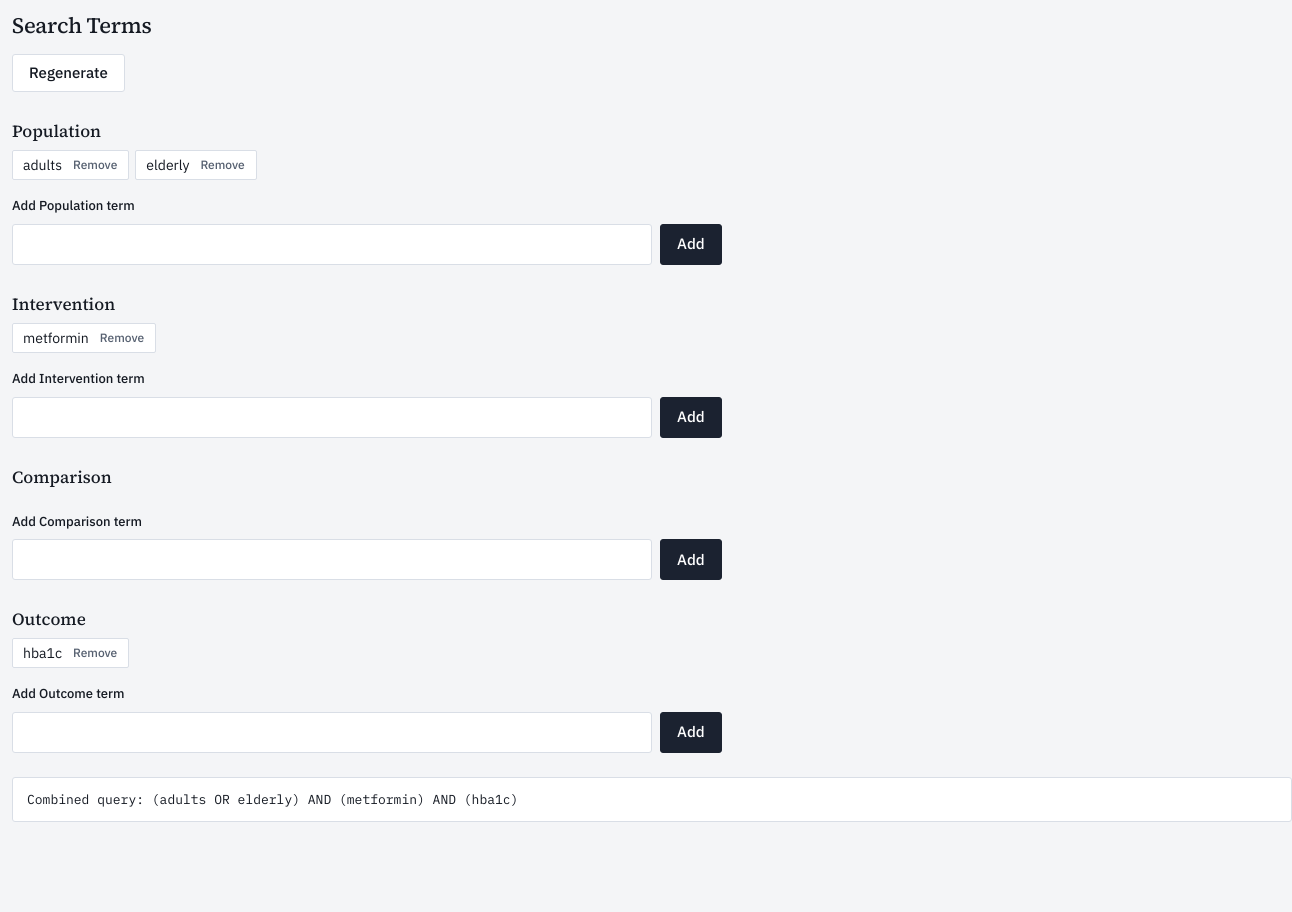
it: SearchTermsPanel › adds a term to a concept and updates the combined string
Expected: the list item "adults" is shown, 23,156 -> 62,174
In the field labelled "Add Comparison term": x=332, y=560 12,539 -> 652,580, type "placebo"
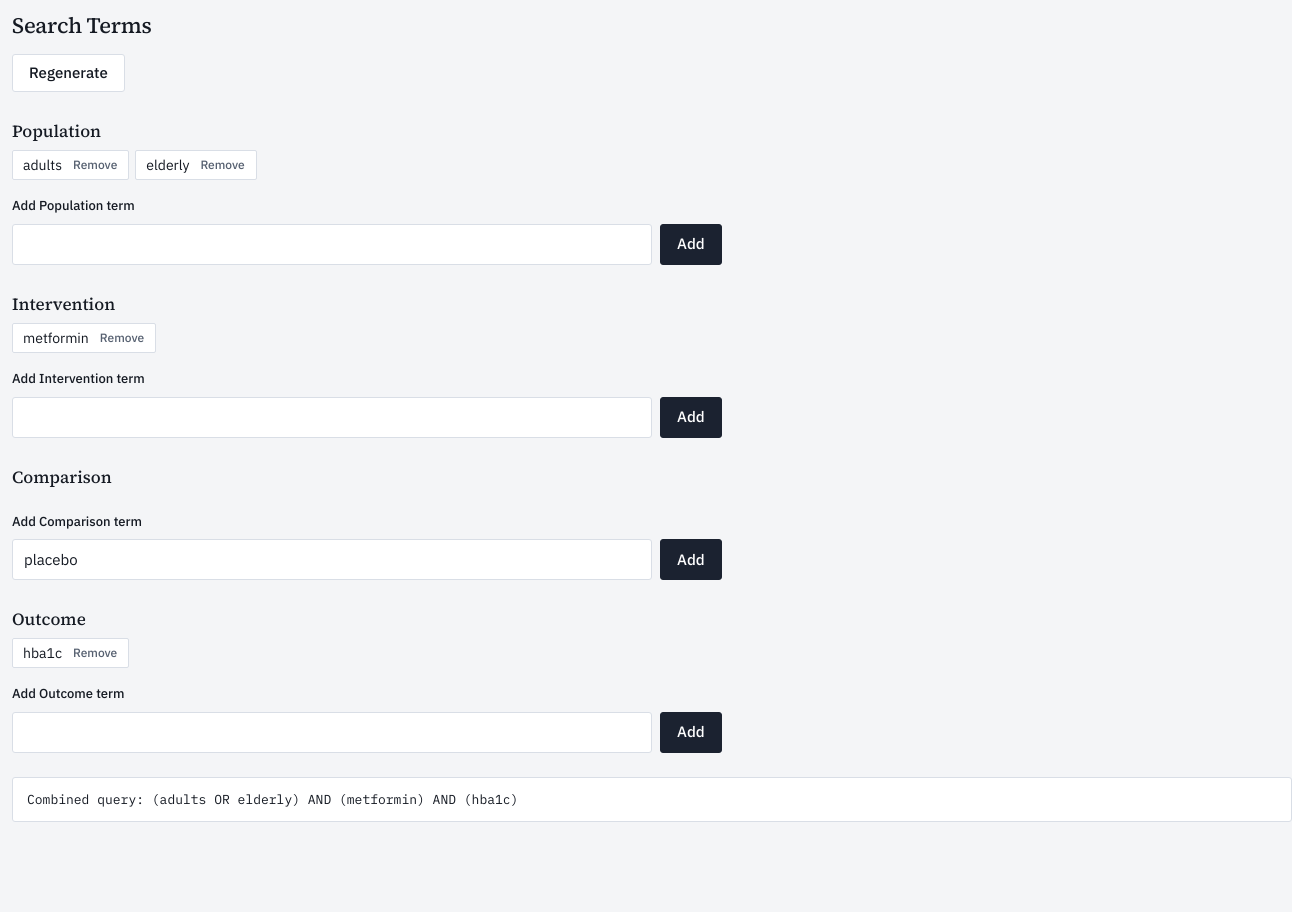
Submit the form labelled "Add Comparison term Add", box 12,513 -> 722,580
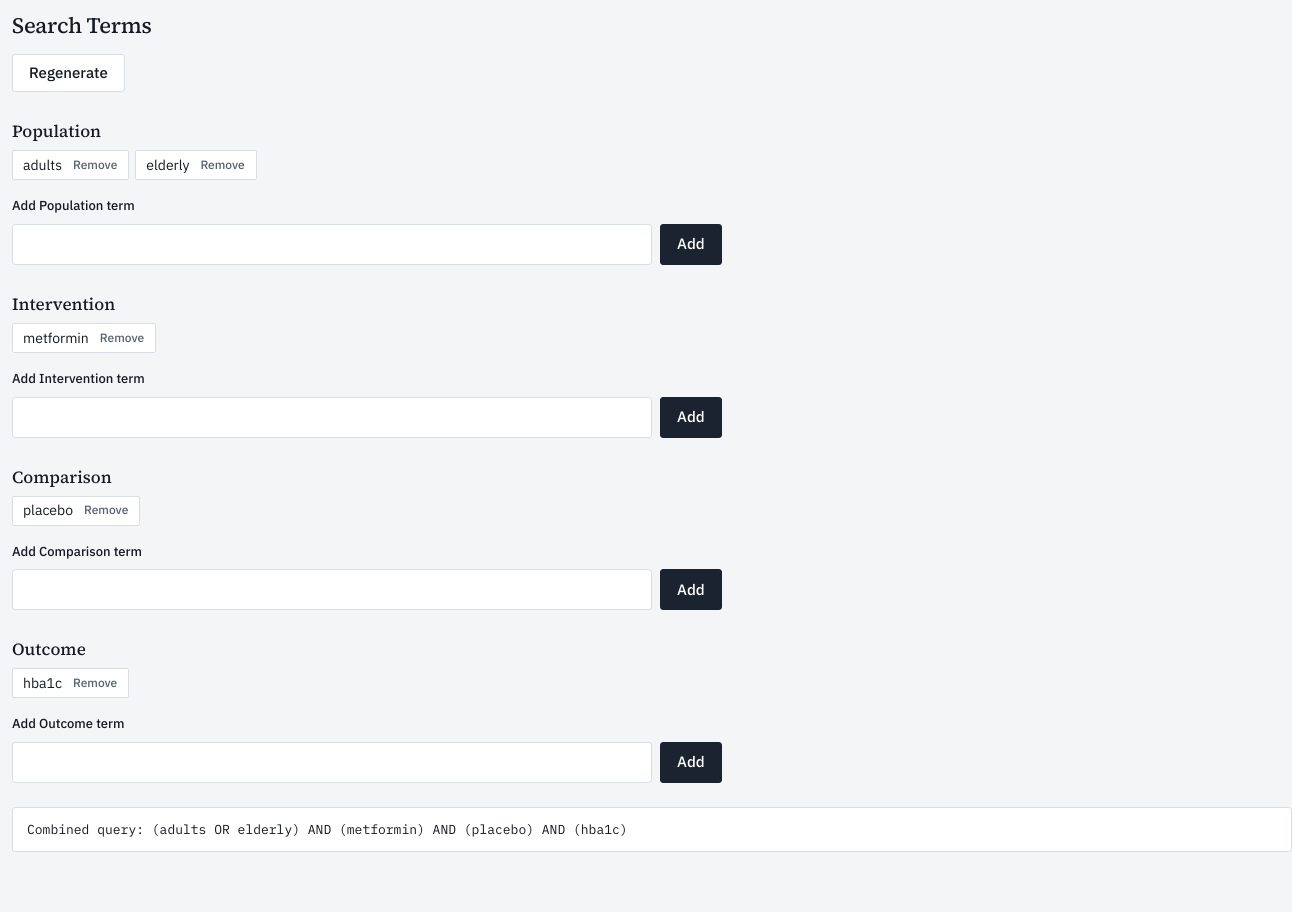
Now the list item "placebo" is shown, box 23,501 -> 73,519
Now the text "Combined query" shows "(adults OR elderly) AND (metformin) AND (placebo) AND (hba1c)", box 152,821 -> 628,838
